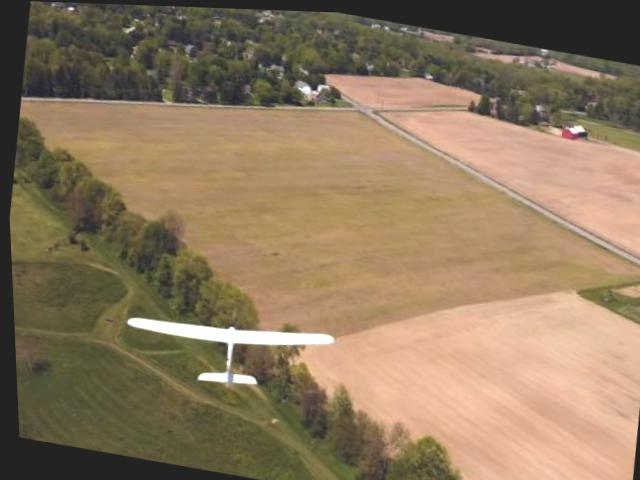uav: (110, 280, 345, 414)
